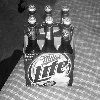beer: (41, 16, 60, 53)
